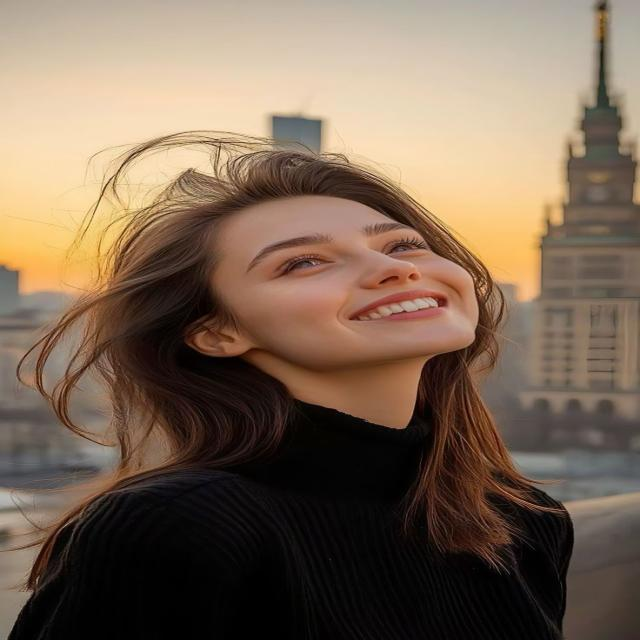sem_oculos: (160, 230, 520, 285)
